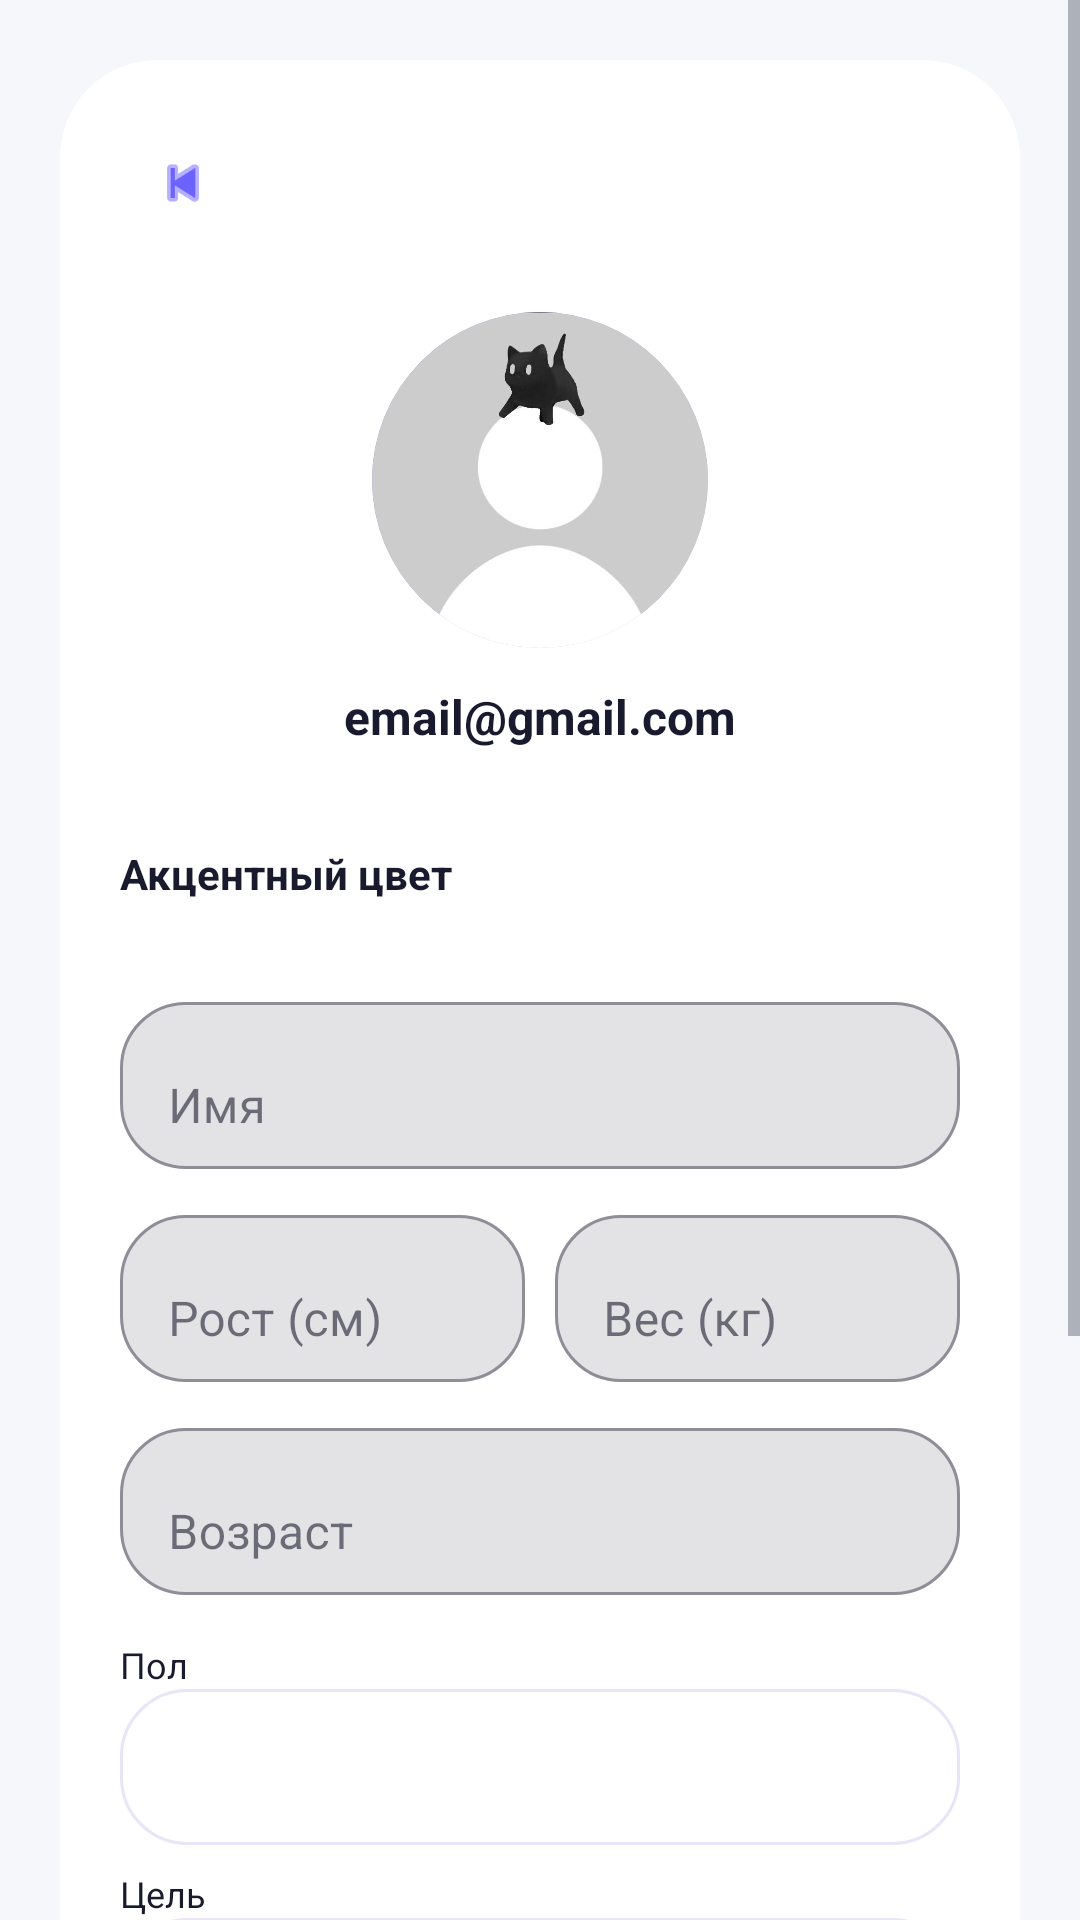

Point at icon controls on the screen. Image size 1080x1920, points as (x=x, y=y).
Выбрать фотографию профиля: (x=540, y=463)
Назад: (x=183, y=183)
